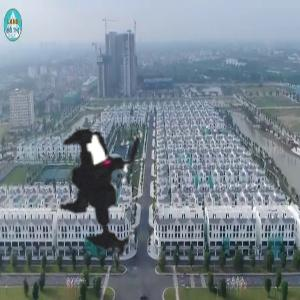drone: (9, 88, 213, 292)
